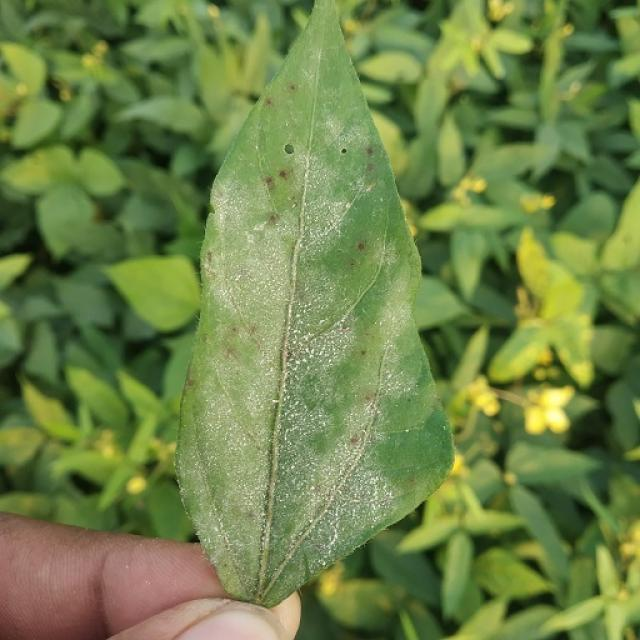Blackgram: (176, 0, 451, 605)
Powdery_Mildew: (313, 271, 405, 389), (211, 210, 291, 339), (287, 342, 357, 453), (197, 391, 258, 502), (293, 311, 352, 387), (307, 187, 362, 258), (332, 449, 385, 512), (372, 329, 418, 400), (286, 329, 339, 380), (282, 382, 318, 433), (293, 287, 326, 325), (306, 537, 337, 570), (282, 454, 305, 486), (295, 349, 316, 371), (334, 483, 349, 503), (244, 510, 255, 520), (291, 360, 300, 372), (355, 496, 363, 504), (272, 398, 279, 404), (442, 423, 447, 430), (405, 428, 411, 433)
